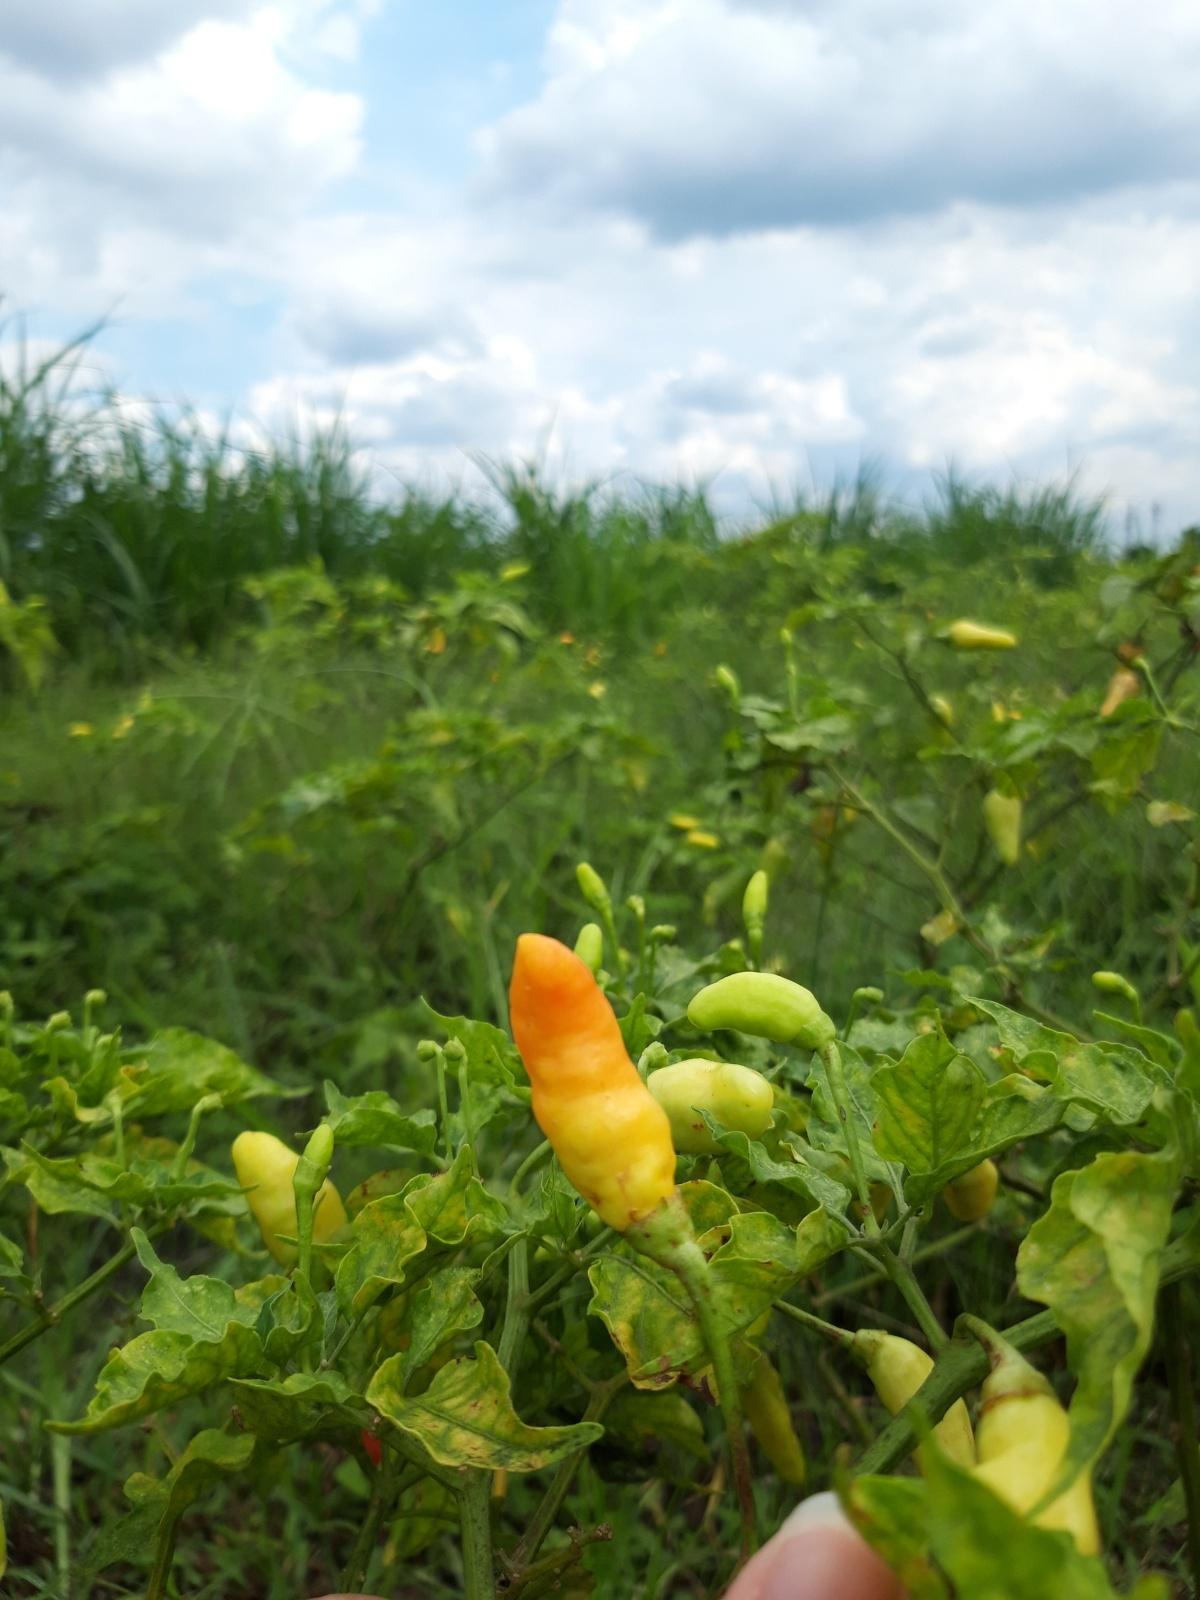cabai_normal: (505, 921, 683, 1223), (973, 1368, 1102, 1574), (232, 1129, 353, 1267), (863, 1322, 974, 1471), (647, 1056, 783, 1151), (683, 968, 837, 1051), (982, 785, 1026, 868), (938, 620, 1013, 661), (737, 868, 778, 945), (297, 1123, 337, 1191), (579, 863, 614, 917)
